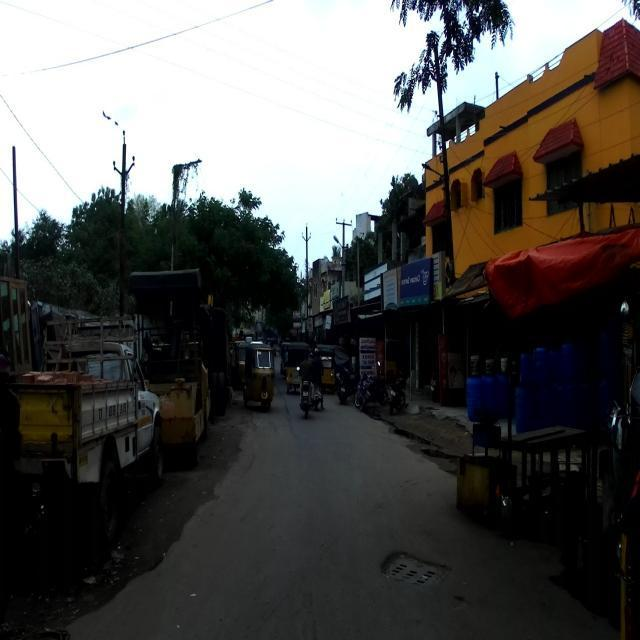Drain Hole: (363, 547, 466, 599)
